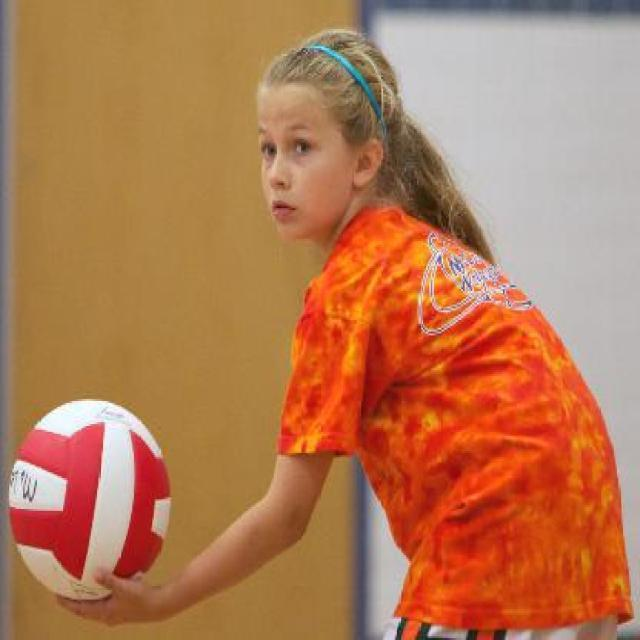volleyball: (9, 400, 170, 600)
